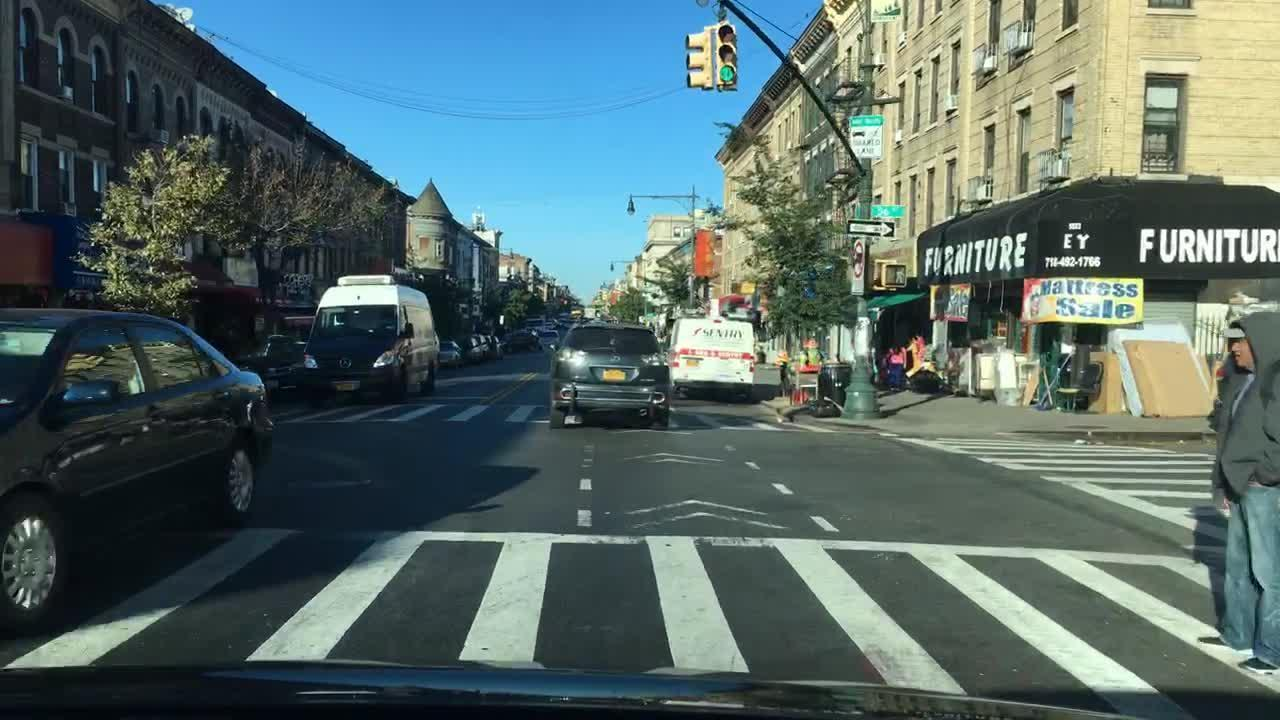Mercedes: (335, 352, 353, 371)
